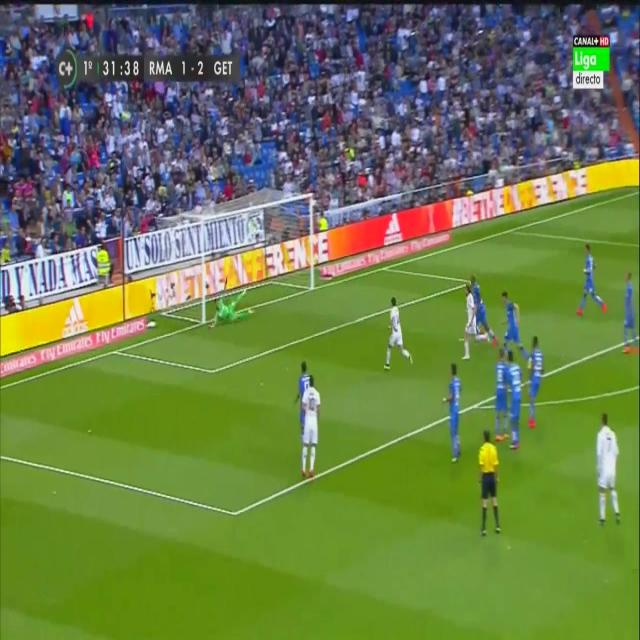Goalkeeper: (206, 277, 256, 331)
Player: (594, 412, 623, 528), (456, 284, 492, 364), (574, 239, 608, 320), (382, 293, 414, 372), (300, 374, 322, 482), (442, 361, 463, 466), (500, 288, 528, 365), (467, 271, 497, 339), (525, 333, 545, 432), (507, 349, 525, 453), (621, 266, 640, 358), (492, 343, 508, 447), (292, 356, 311, 398)
Referee: (477, 429, 502, 539)
